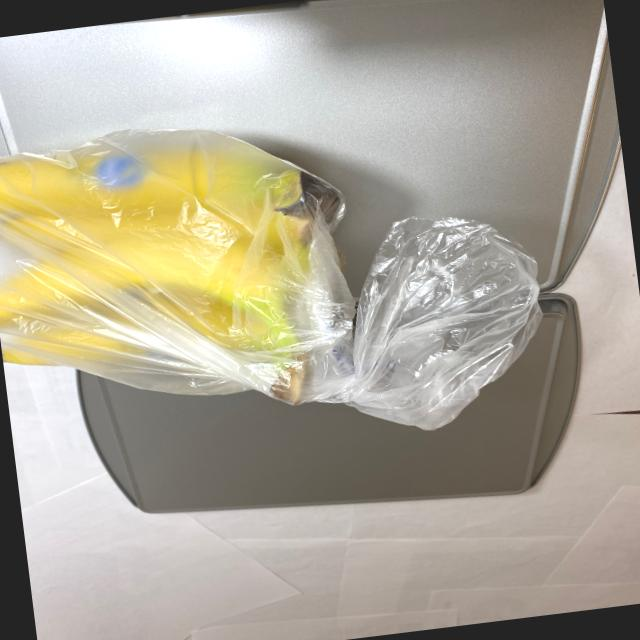banana: (0, 80, 371, 453)
